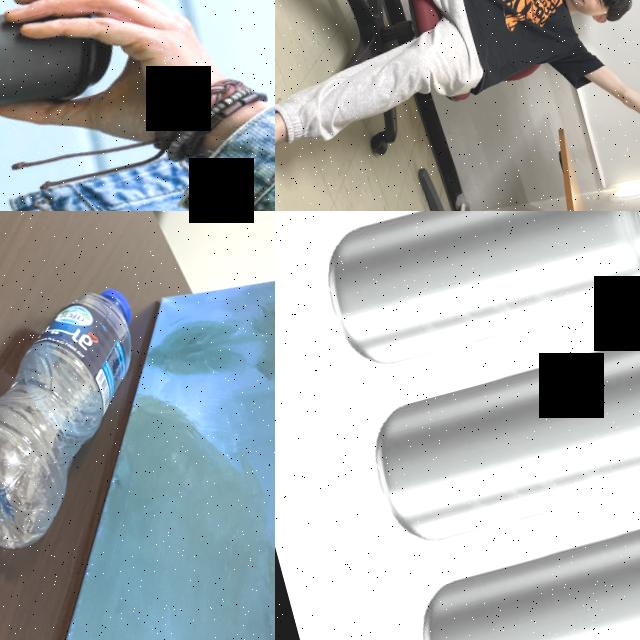bottle: (0, 253, 206, 578)
can: (356, 313, 640, 557), (309, 211, 640, 380), (403, 489, 640, 640)
cup: (0, 0, 122, 147)
